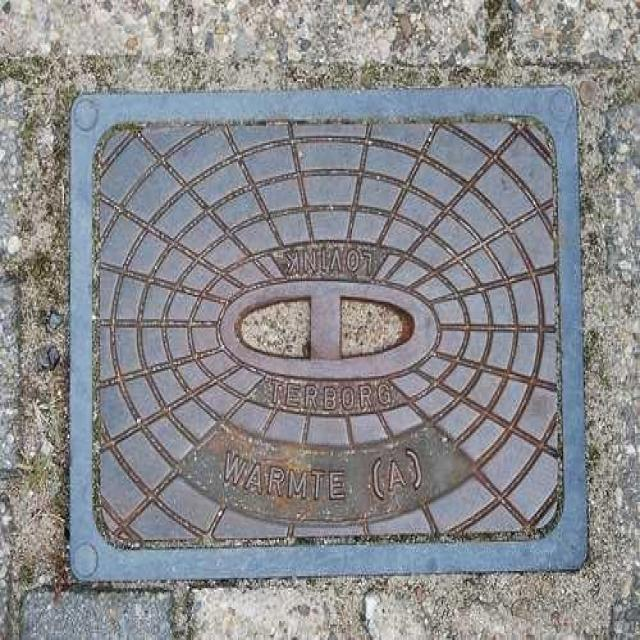manhole: (68, 86, 590, 590)
